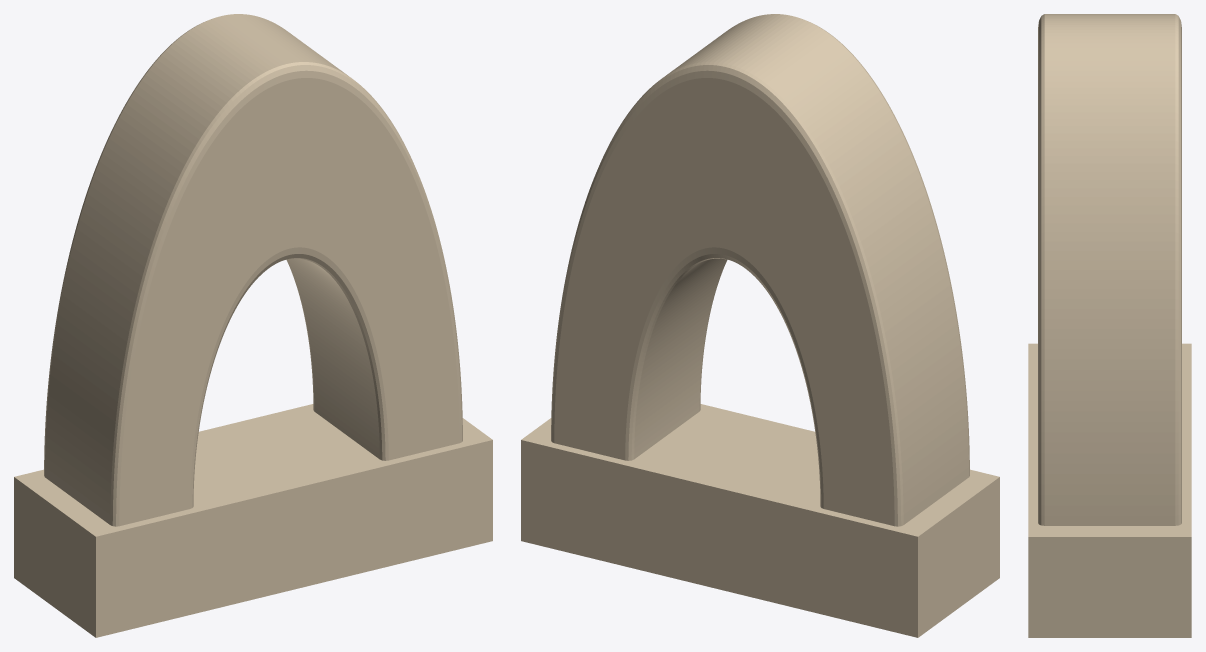
The model's file is escultura-arco.glb.
3 renders of one model, left to right at view 1: azimuth 30°, elevation 25°; view 2: azimuth 150°, elevation 25°; view 3: azimuth 270°, elevation 25°, orthographic.
Visible parts, largest first — view 1: escultura-arco; view 2: escultura-arco; view 3: escultura-arco.
Part boxes in pixels (left/top/right/bottom): escultura-arco: left=14, top=14, right=492, bottom=637; escultura-arco: left=521, top=14, right=999, bottom=637; escultura-arco: left=1028, top=14, right=1191, bottom=637.
Size of the model in its own units: 0.28 by 0.35 by 0.1.
